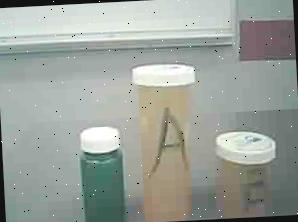Bottle A: (126, 60, 205, 222)
Bottle B: (208, 128, 281, 218)
Bottle C: (74, 120, 130, 222)
